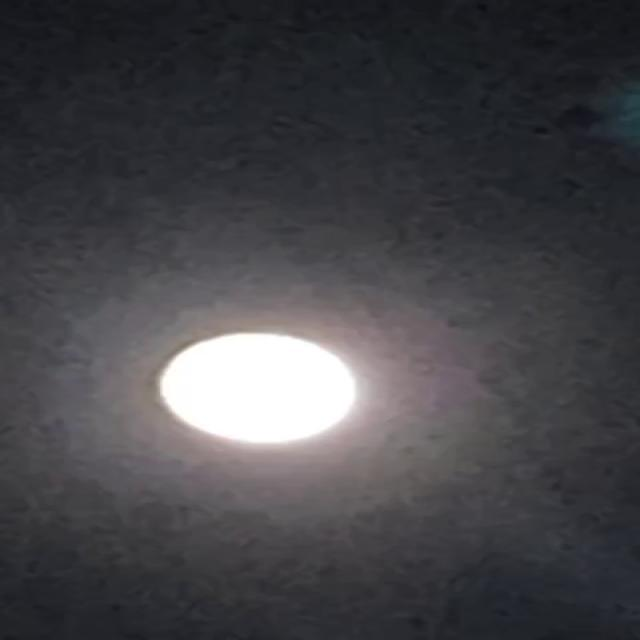moon: (130, 309, 354, 453)
